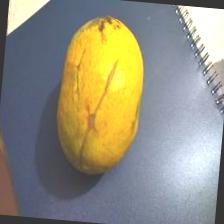Orange Rotten: (47, 11, 160, 182)
